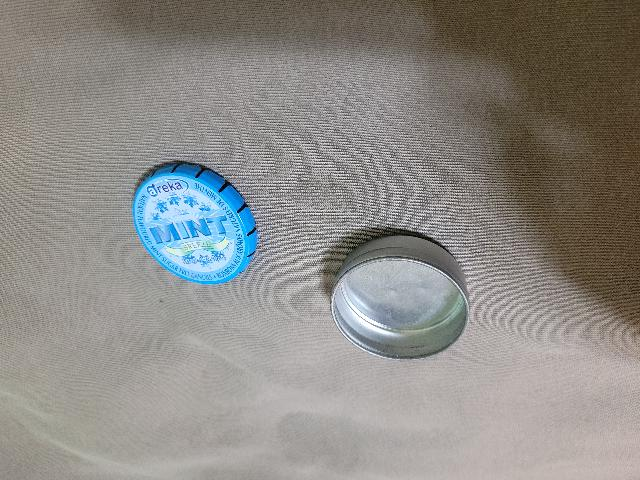Metal: (315, 213, 472, 365), (115, 160, 263, 289)
